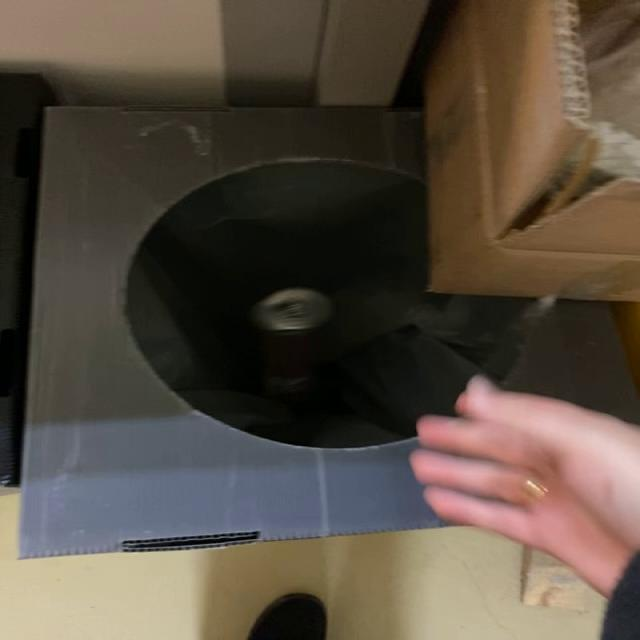bin: (21, 108, 637, 558)
metal: (251, 288, 333, 400)
